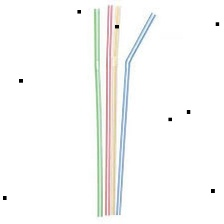drinking_straw: (116, 7, 160, 218), (90, 4, 104, 219)
